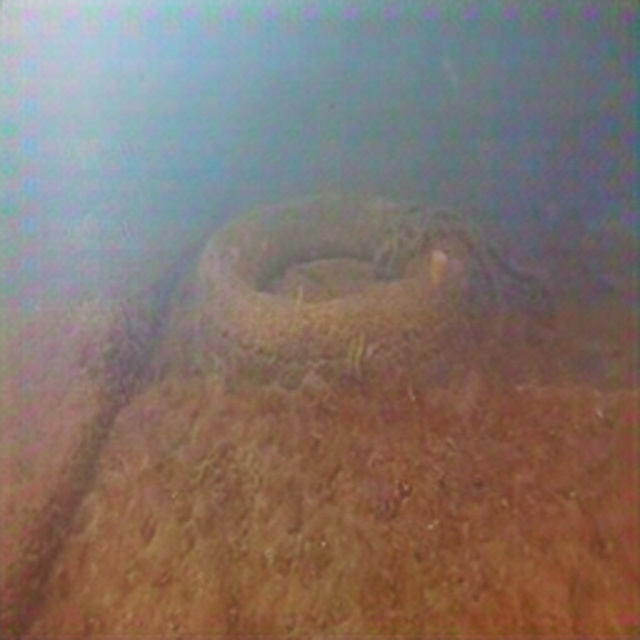mine: (193, 190, 479, 407)
